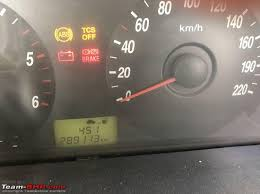Digital_Meter: (55, 134, 126, 146)
